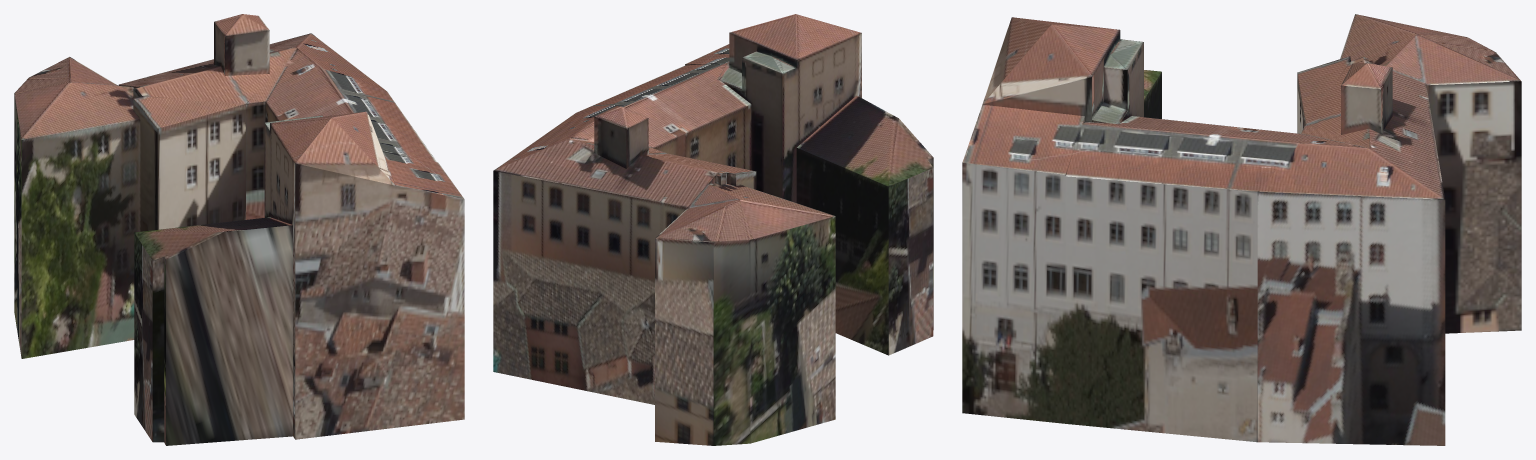
3 views of the same model, side by side, from view 1: azimuth 30°, elevation 25°; view 2: azimuth 150°, elevation 25°; view 3: azimuth 270°, elevation 25° (orthographic). The views are drawn at different scales.
Parts seen in each view (by area): view 1: Z_UP; view 2: Z_UP; view 3: Z_UP.
Part boxes in pixels (bbox=[...]): Z_UP: bbox=[14, 14, 464, 445]; Z_UP: bbox=[493, 14, 933, 445]; Z_UP: bbox=[962, 14, 1521, 445].
Bounding box in the file's own units: 37.74 × 32.42 × 48.8.
2 materials, 1 textured.
